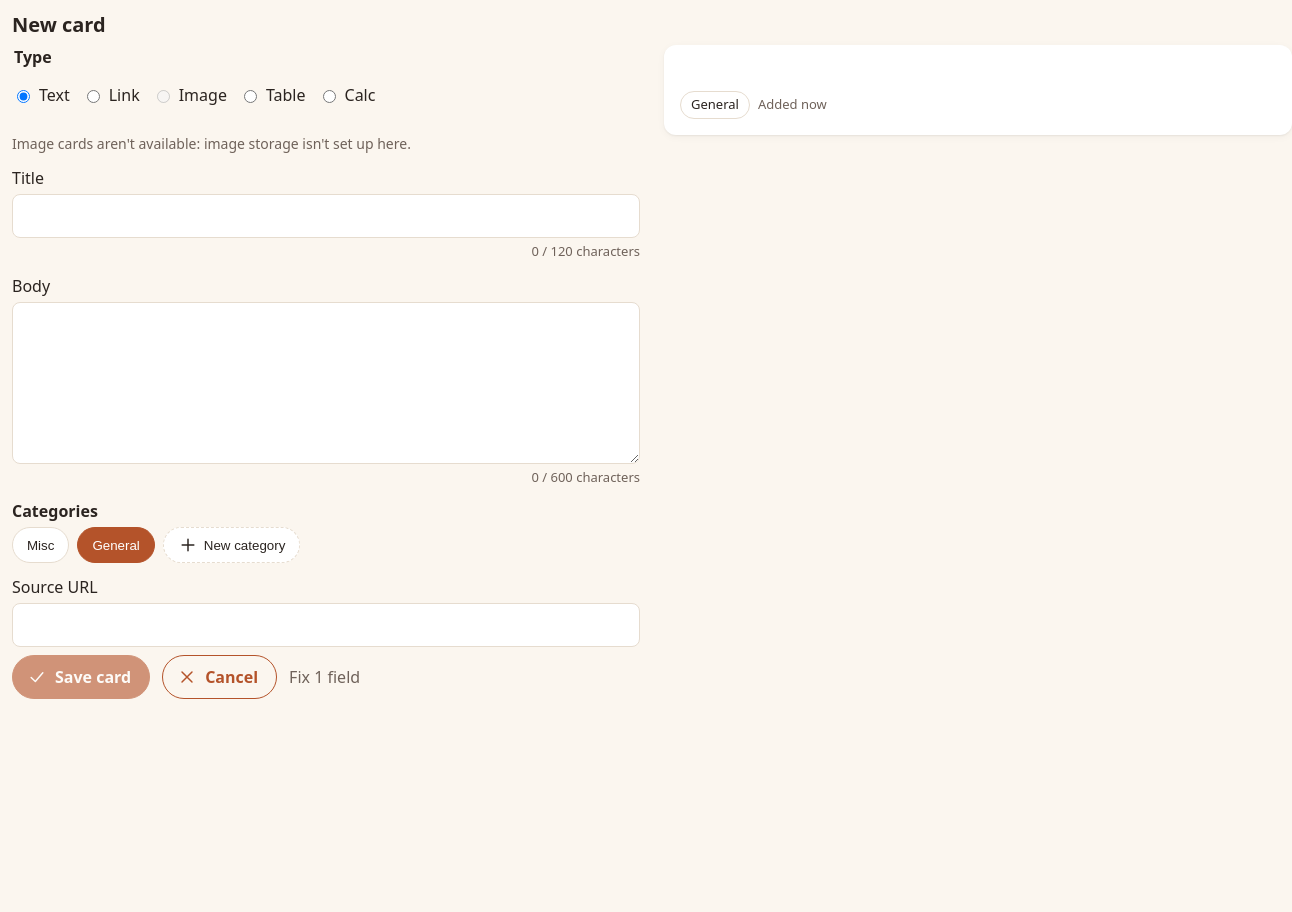
CardEditor: create › disables Save with no category
In the field labelled "Title": (326,216) [12,194,640,238], type "No category"
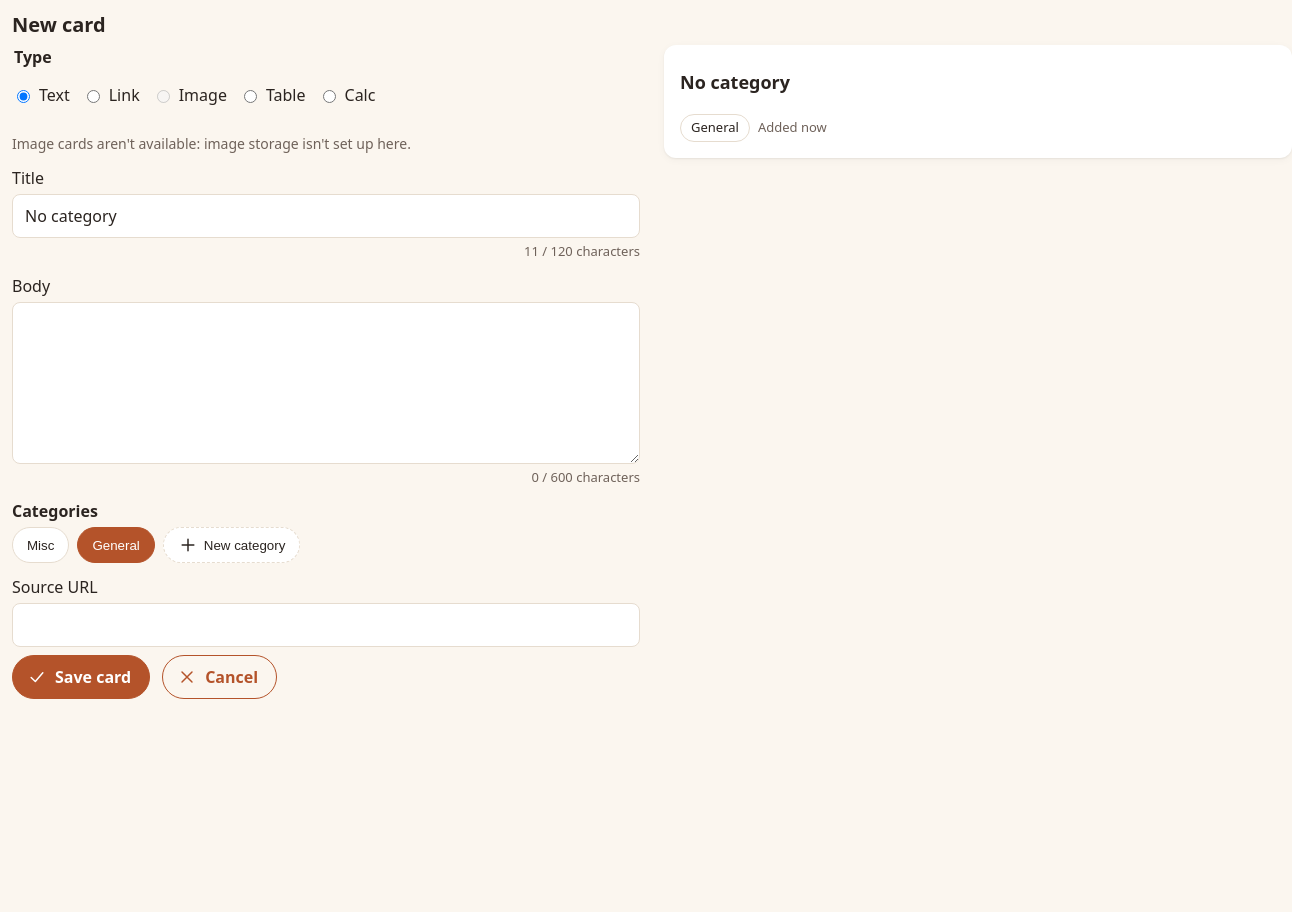
Click the button "General": (116,545) [77,527,155,563]
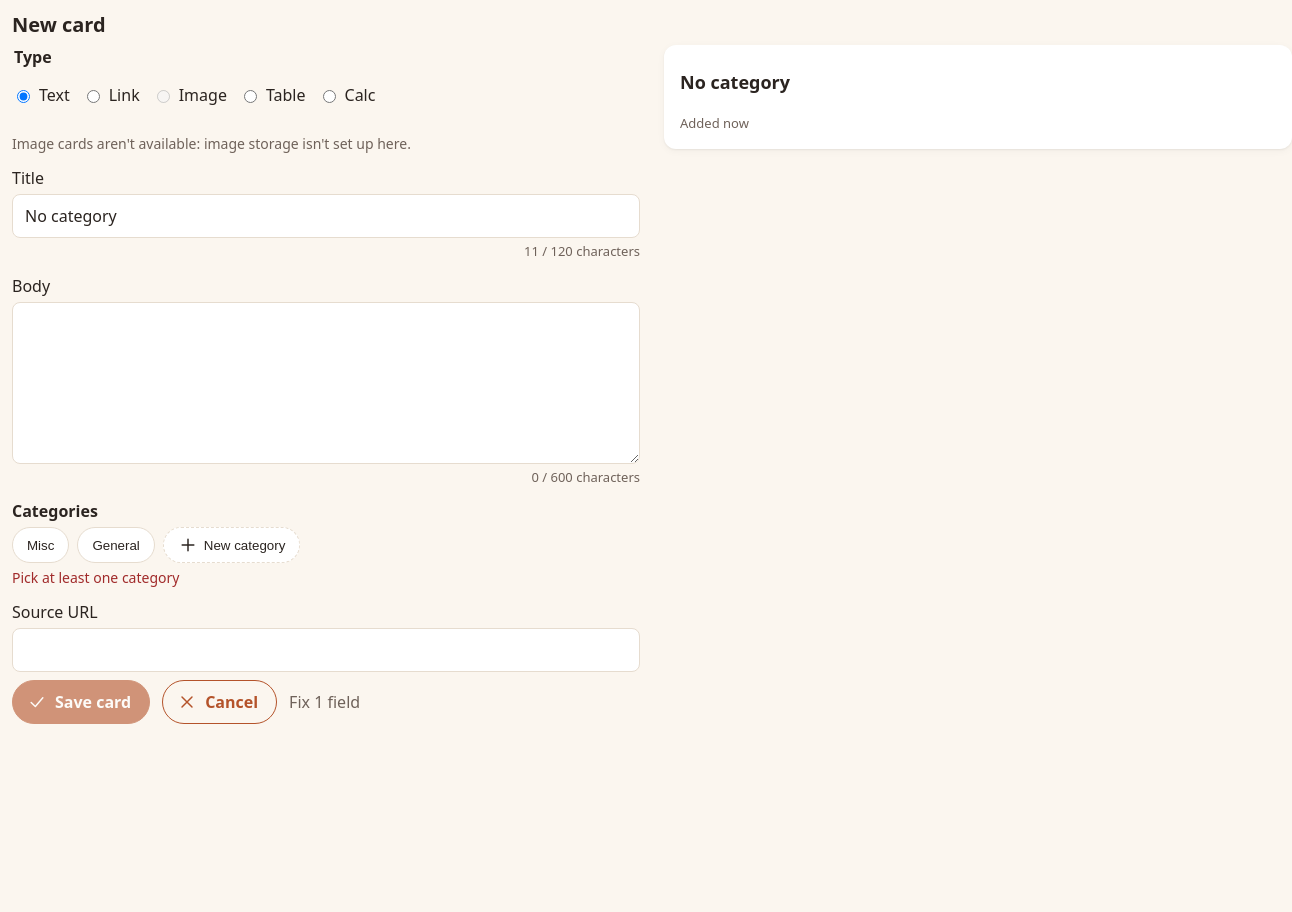
Result: the button "Save card" is disabled at [12,680,150,724]
Result: the text "Pick at least one category" is shown at [12,568,179,587]
